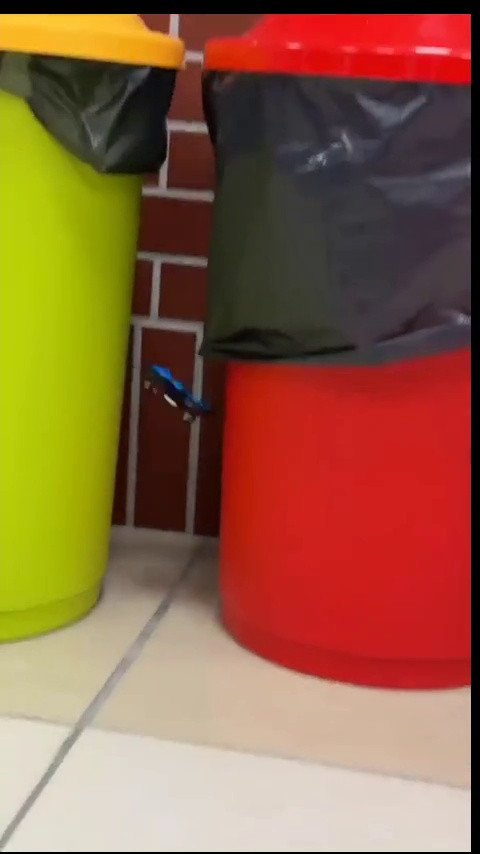drone: (142, 367, 205, 423)
